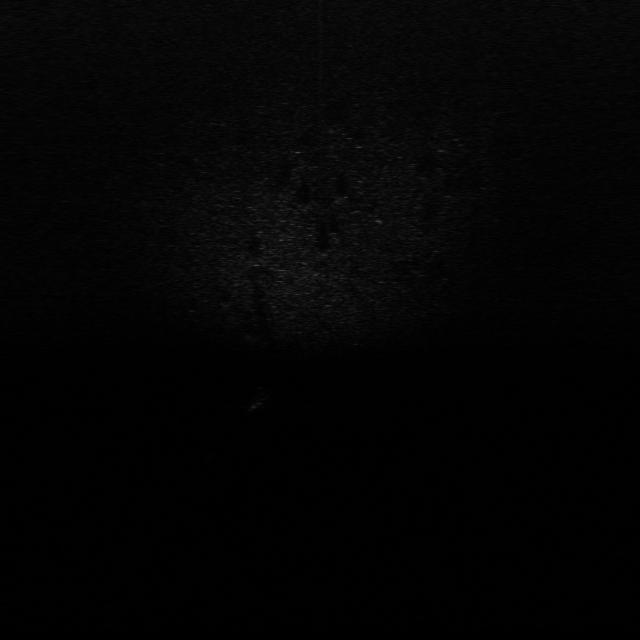human body: (242, 384, 286, 420)
